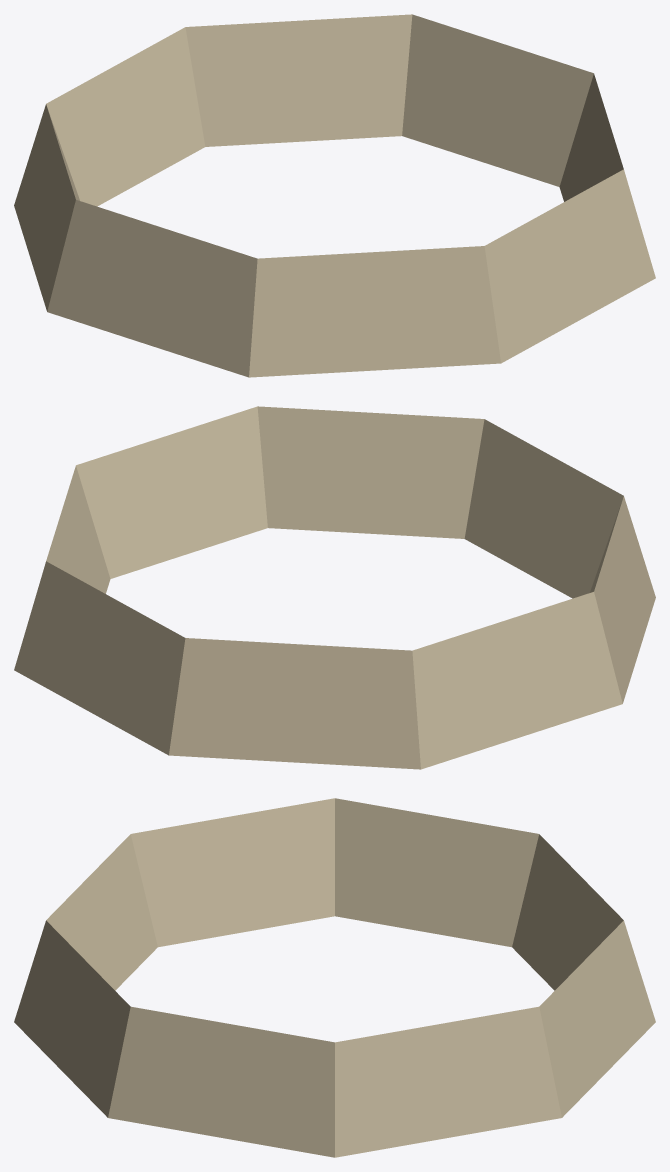
File: shockwave_ring.obj
The picture shows the model from 3 angles, top to bottom: view 1: azimuth 30°, elevation 25°; view 2: azimuth 150°, elevation 25°; view 3: azimuth 270°, elevation 25°; orthographic projection. The views are drawn at different scales.
Visible parts, largest first — view 1: shockwave_ring; view 2: shockwave_ring; view 3: shockwave_ring.
Part boxes in pixels (<box>): shockwave_ring: <box>14,14,655,377</box>; shockwave_ring: <box>14,406,655,769</box>; shockwave_ring: <box>14,798,655,1157</box>.
Bounding box in the file's own units: 2 × 0.35 × 2.
